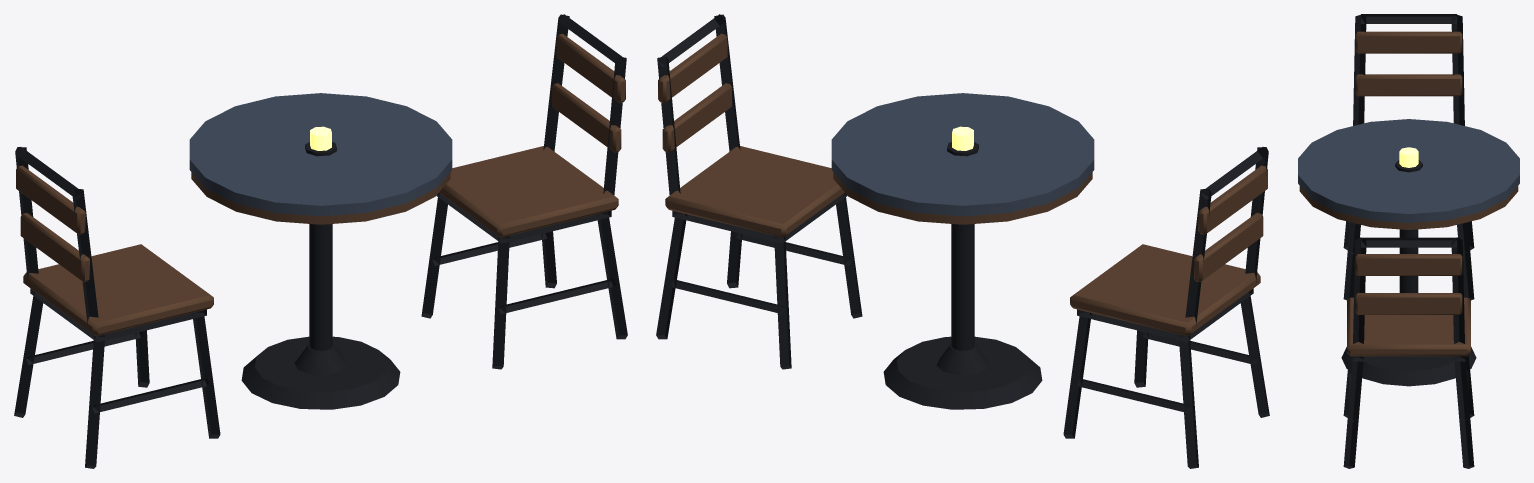
Rendered from cafe_table_set.glb.
The picture shows the model from 3 angles, left to right: view 1: azimuth 30°, elevation 25°; view 2: azimuth 150°, elevation 25°; view 3: azimuth 270°, elevation 25°; orthographic projection. The views are drawn at different scales.
Visible parts, largest first — view 1: body, lights; view 2: body, lights; view 3: body, lights.
Boxes of the visible parts, x1=… form: body: x1=14, y1=14, x2=627, y2=468; lights: x1=305, y1=126, x2=336, y2=156; body: x1=656, y1=14, x2=1269, y2=468; lights: x1=947, y1=126, x2=978, y2=156; body: x1=1298, y1=14, x2=1519, y2=468; lights: x1=1395, y1=147, x2=1422, y2=172.
Size of the model in its own units: 1.92 by 0.9122 by 0.7878.
